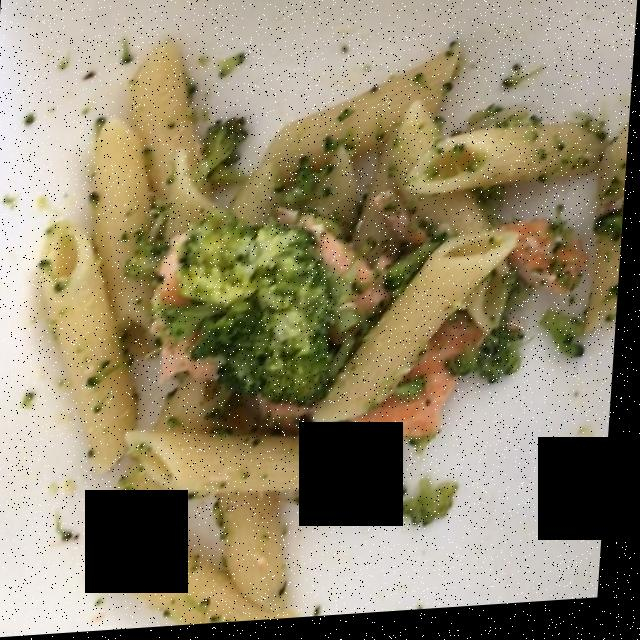broccoli: (152, 203, 473, 542)
pasta-penne: (41, 61, 608, 590)
salmon-smoked: (156, 213, 378, 408), (331, 335, 485, 447)
